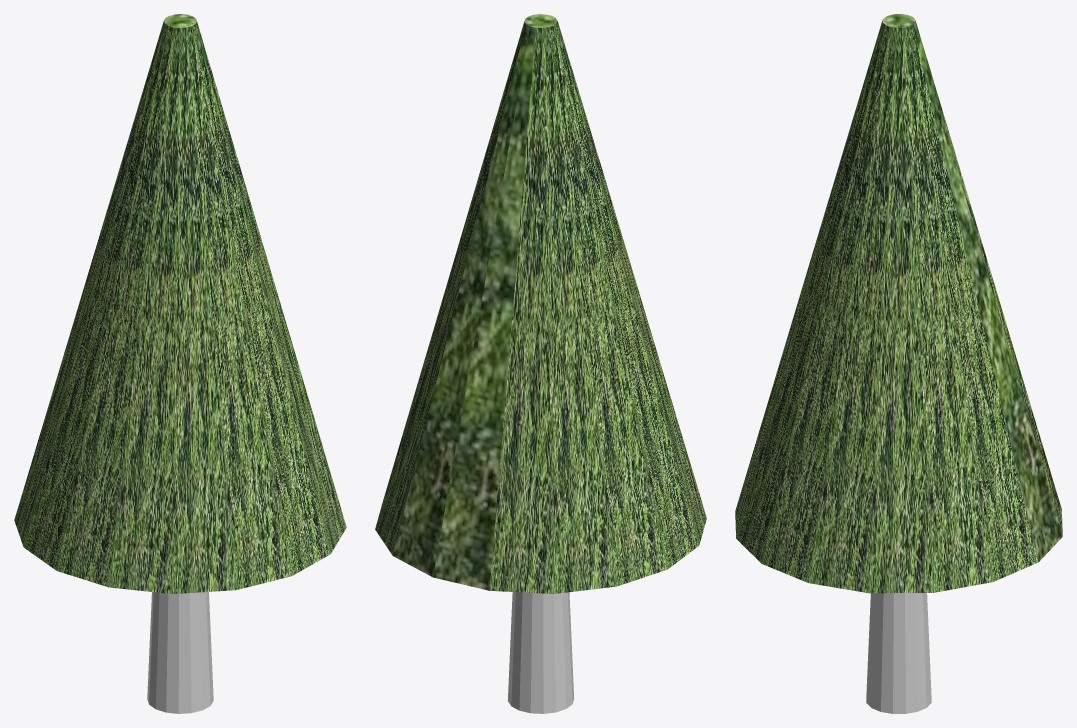
Rendered from GMLID_SO092422_3593_9527.gltf.
3 renders of one model, left to right at view 1: azimuth 30°, elevation 25°; view 2: azimuth 150°, elevation 25°; view 3: azimuth 270°, elevation 25°, orthographic.
Visible parts, largest first — view 1: Z_UP; view 2: Z_UP; view 3: Z_UP.
Boxes of the visible parts, <box> form: Z_UP: <box>14,14,346,713</box>; Z_UP: <box>375,14,706,713</box>; Z_UP: <box>735,14,1062,713</box>.
Size of the model in its own units: 6.58 by 15.07 by 6.58.
Materials: 2 (1 with a texture image).
